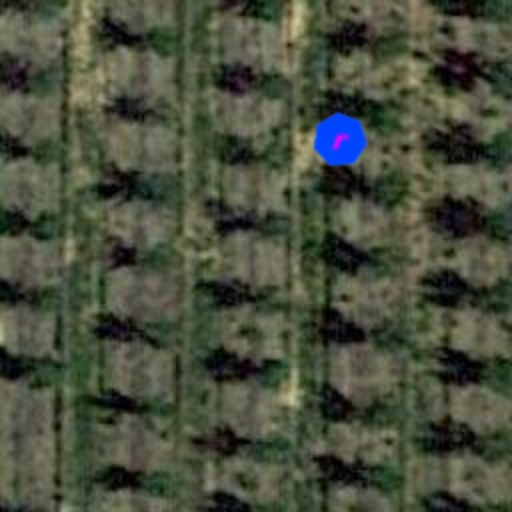heptagon: (308, 108, 372, 172)
